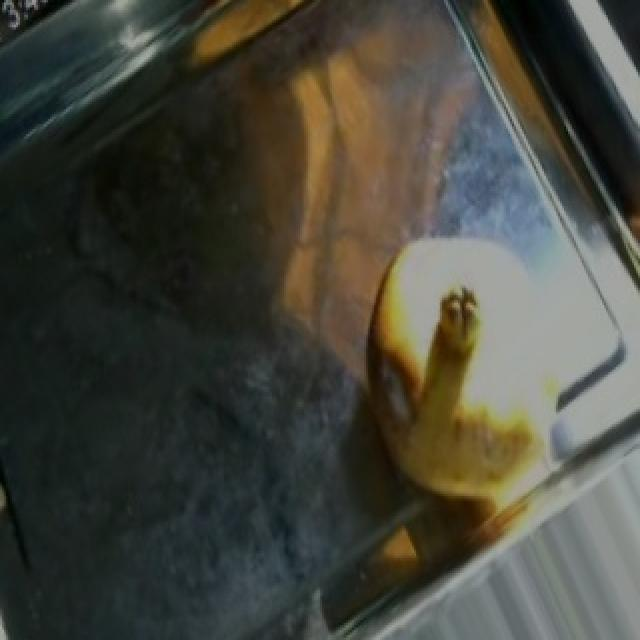fruit: (334, 208, 540, 462)
